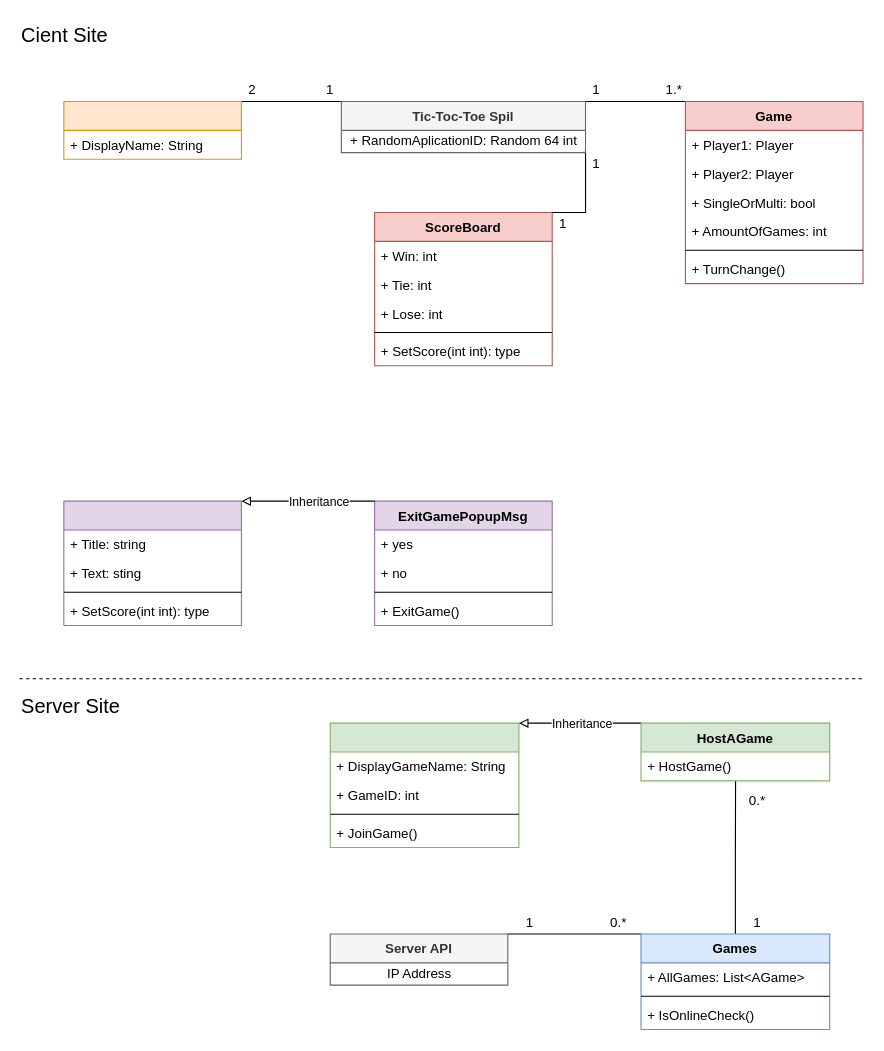
Some shapes in this 884 by 1051 pixel diagram are drawn without their labels. The shapes that lost their labels are listed below. From the top down, each one's box as (x1, y1, x2, y2) in pixels, then its label:
(63, 100, 241, 159): Player
(63, 500, 241, 625): PopupMsg
(329, 722, 519, 847): AGame
